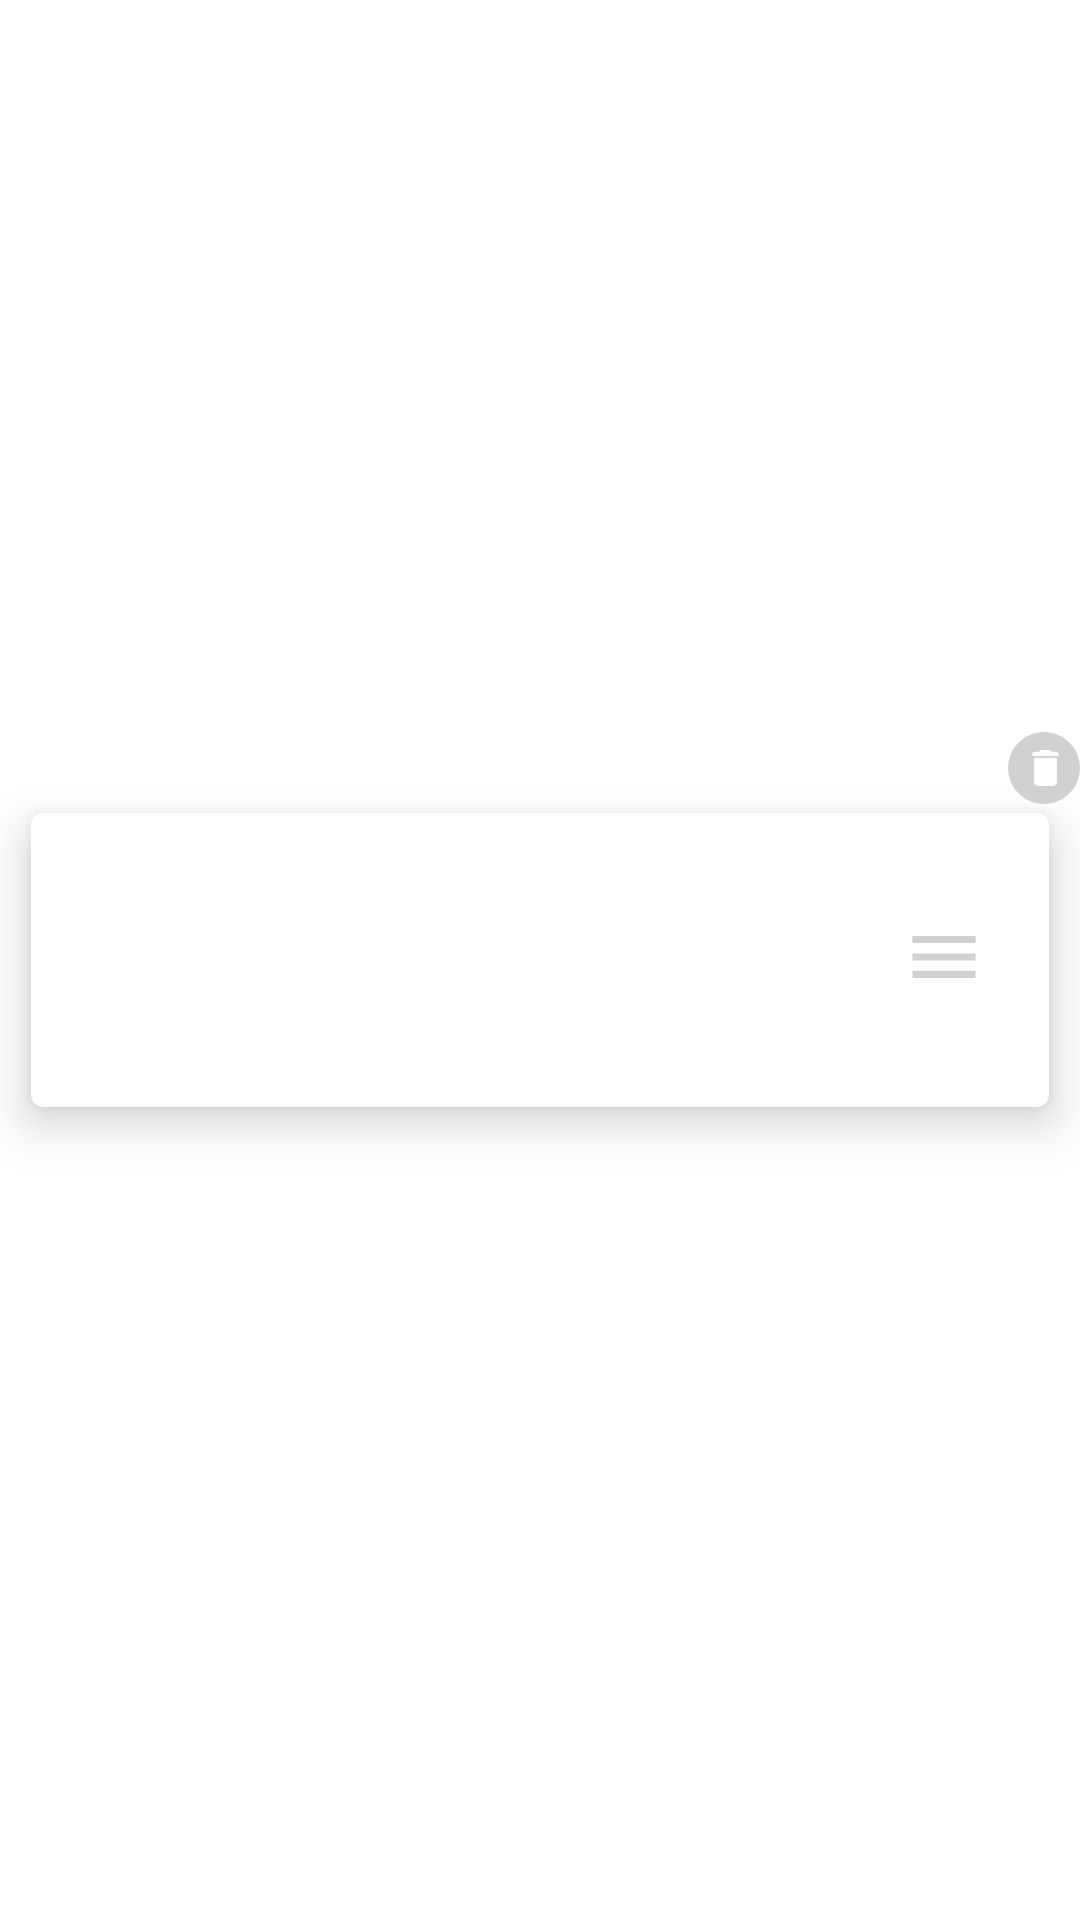

Named icons in this screenshot (1080px x 1920px) and their bounding boxes, BBox(x1, y1, x2, y2):
Delete: BBox(1008, 732, 1080, 804)
menu: BBox(913, 936, 975, 978)
